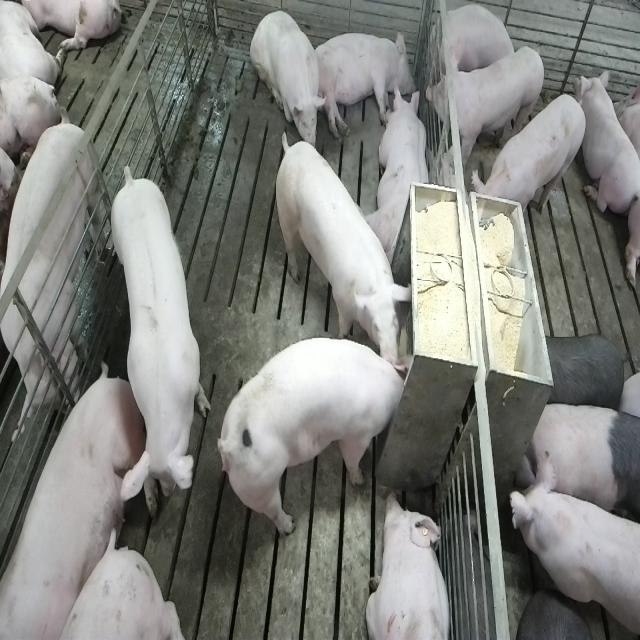Feeding: (218, 329, 407, 545), (274, 131, 411, 369)
Lateral_lying: (0, 371, 156, 637), (110, 164, 210, 509), (508, 447, 640, 626), (471, 88, 588, 246), (425, 37, 546, 171), (524, 393, 640, 510), (311, 28, 418, 138), (526, 325, 628, 425), (430, 0, 519, 88)
Sitting: (249, 6, 325, 151)
Standing: (1, 100, 106, 417)
Sternal_lying: (362, 481, 454, 640), (360, 76, 430, 264), (577, 63, 640, 221)
